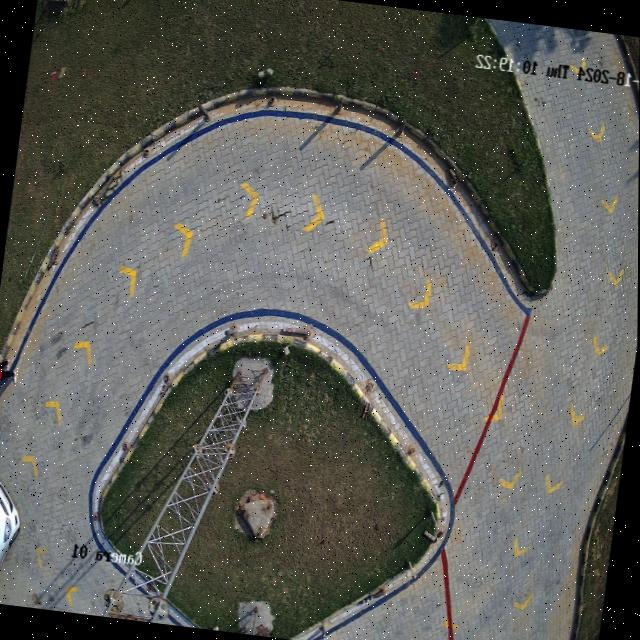car: (0, 482, 20, 565)
